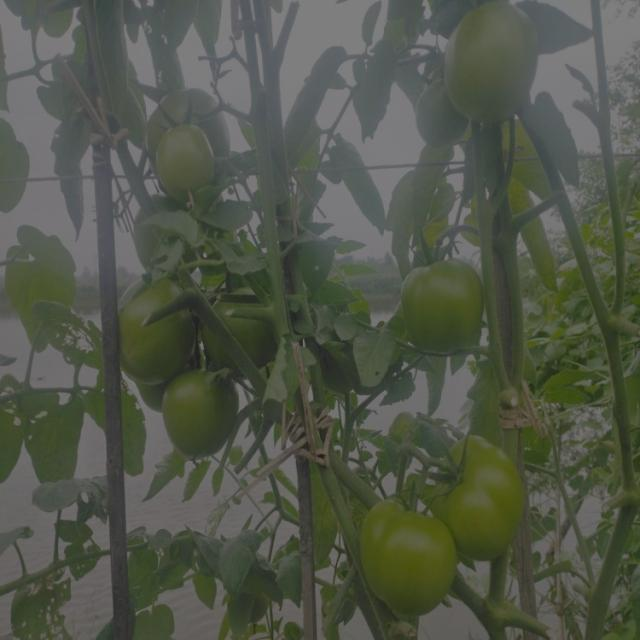tomato: (350, 488, 456, 615), (429, 440, 532, 558), (399, 237, 485, 356), (454, 1, 540, 116), (116, 255, 197, 369), (165, 367, 242, 459), (202, 271, 279, 362), (139, 70, 235, 140), (149, 123, 222, 197), (416, 74, 464, 142)
